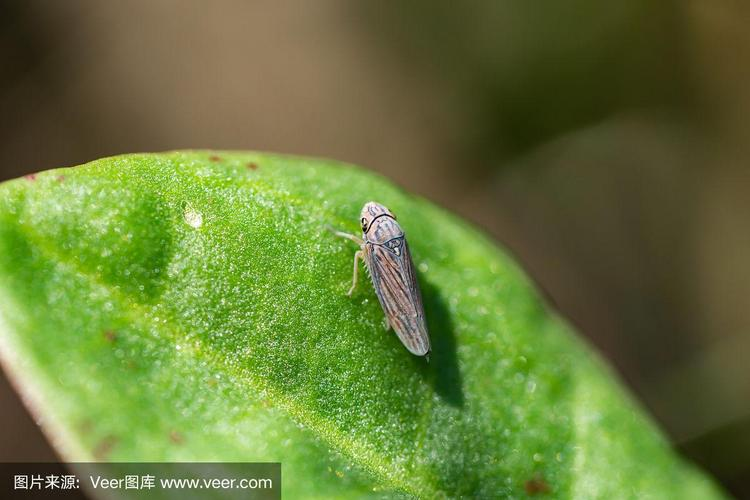Cicadellidae: (346, 200, 432, 356)
